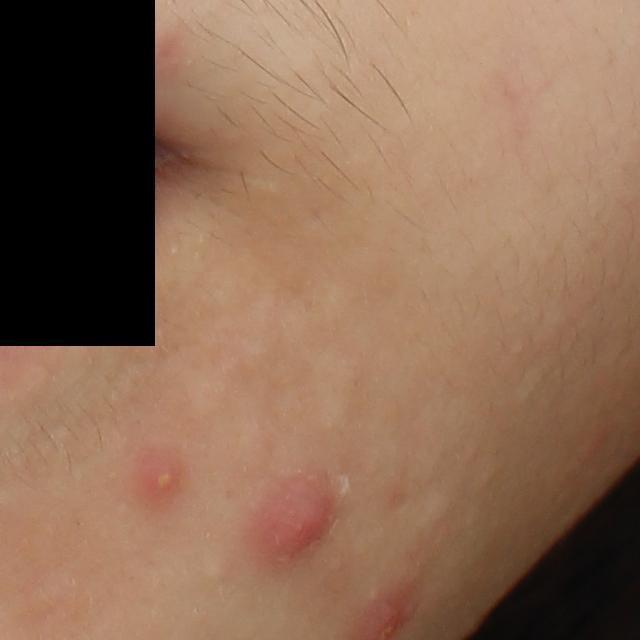papule: (257, 481, 342, 559)
pustule: (146, 455, 189, 499)
